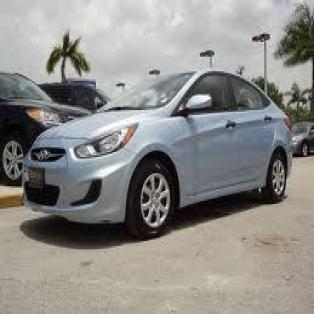Auto: (19, 63, 296, 246)
